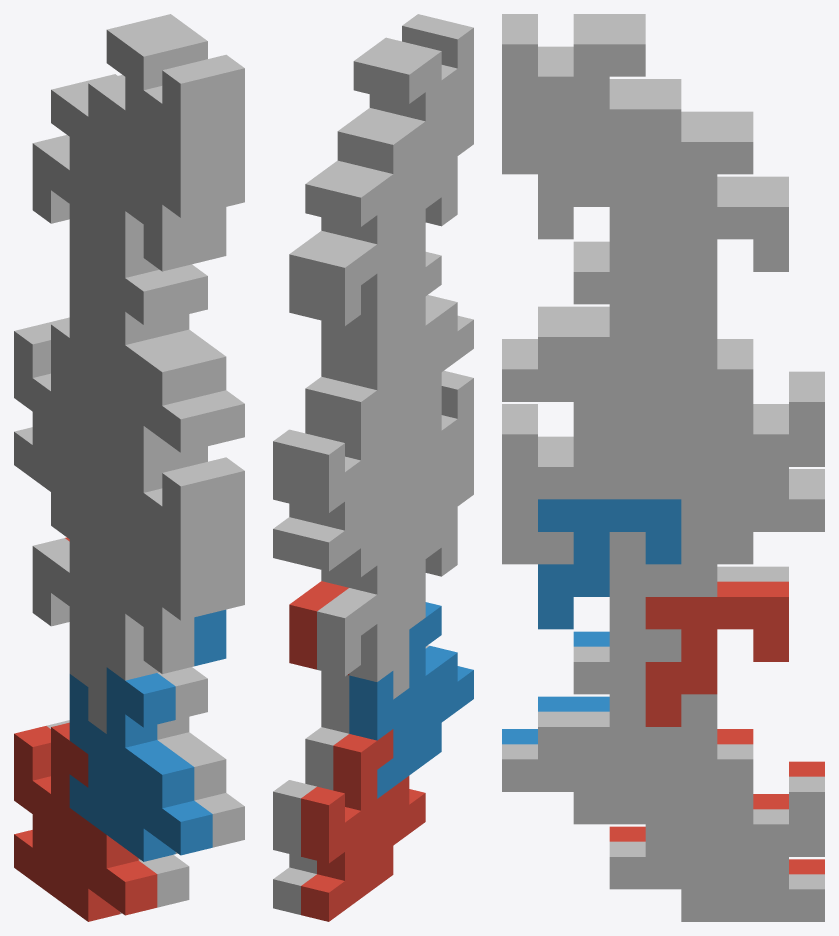
Rendered from tiling.obj.
The picture shows the model from 3 angles, left to right: view 1: azimuth 30°, elevation 25°; view 2: azimuth 150°, elevation 25°; view 3: azimuth 270°, elevation 25°; orthographic projection. The views are drawn at different scales.
Parts seen in each view (by area): view 1: copy_3_domain_4, copy_4_domain_2, copy_4_domain_4, copy_3_domain_2, copy_2_domain_4, copy_4_domain_1, copy_1_domain_1, copy_3_domain_3, copy_2_domain_2, copy_1_domain_3, copy_3_domain_1, copy_2_domain_1 (+11 smaller); view 2: copy_1_domain_3, copy_1_domain_1, copy_2_domain_3, copy_3_domain_4, copy_2_domain_1, copy_3_domain_3, copy_2_domain_4, copy_4_domain_1, copy_4_domain_3, copy_1_domain_4, copy_1_domain_2, copy_3_domain_2 (+15 smaller); view 3: copy_4_domain_6, copy_4_domain_8, copy_3_domain_8, copy_1_domain_5, copy_1_domain_7, copy_4_domain_5, copy_3_domain_7, copy_2_domain_5, copy_2_domain_7, copy_2_domain_8, copy_3_domain_6, copy_4_domain_7 (+15 smaller).
Part boxes in pixels (left/top/right/bottom): copy_3_domain_4: left=106, top=22, right=212, bottom=217; copy_4_domain_2: left=106, top=667, right=212, bottom=855; copy_4_domain_4: left=106, top=265, right=212, bottom=452; copy_3_domain_2: left=106, top=432, right=212, bottom=620; copy_2_domain_4: left=88, top=75, right=194, bottom=271; copy_4_domain_1: left=51, top=722, right=157, bottom=915; copy_1_domain_1: left=14, top=726, right=120, bottom=921; copy_3_domain_3: left=51, top=82, right=157, bottom=277; copy_2_domain_2: left=88, top=486, right=194, bottom=673; copy_1_domain_3: left=14, top=323, right=88, bottom=518; copy_3_domain_1: left=51, top=492, right=157, bottom=680; copy_2_domain_1: left=32, top=538, right=106, bottom=733; copy_1_domain_3: left=301, top=436, right=393, bottom=571; copy_1_domain_1: left=301, top=786, right=393, bottom=921; copy_2_domain_3: left=317, top=221, right=409, bottom=348; copy_3_domain_4: left=381, top=21, right=473, bottom=167; copy_2_domain_1: left=317, top=571, right=409, bottom=699; copy_3_domain_3: left=333, top=151, right=425, bottom=290; copy_2_domain_4: left=365, top=98, right=457, bottom=226; copy_4_domain_1: left=333, top=729, right=425, bottom=868; copy_4_domain_3: left=333, top=379, right=425, bottom=518; copy_1_domain_4: left=349, top=320, right=441, bottom=448; copy_1_domain_2: left=349, top=671, right=441, bottom=798; copy_3_domain_2: left=409, top=371, right=473, bottom=517; copy_4_domain_6: left=502, top=646, right=645, bottom=791; copy_4_domain_8: left=502, top=256, right=645, bottom=401; copy_3_domain_8: left=502, top=29, right=645, bottom=174; copy_1_domain_5: left=681, top=776, right=824, bottom=921; copy_1_domain_7: left=681, top=386, right=824, bottom=531; copy_4_domain_5: left=609, top=744, right=753, bottom=889; copy_3_domain_7: left=609, top=126, right=753, bottom=271; copy_2_domain_5: left=645, top=581, right=788, bottom=726; copy_2_domain_7: left=645, top=191, right=788, bottom=336; copy_2_domain_8: left=538, top=94, right=681, bottom=239; copy_3_domain_6: left=502, top=419, right=645, bottom=564; copy_4_domain_7: left=609, top=354, right=753, bottom=499.
Bounding box in the file's own units: 2 × 27 × 9.
